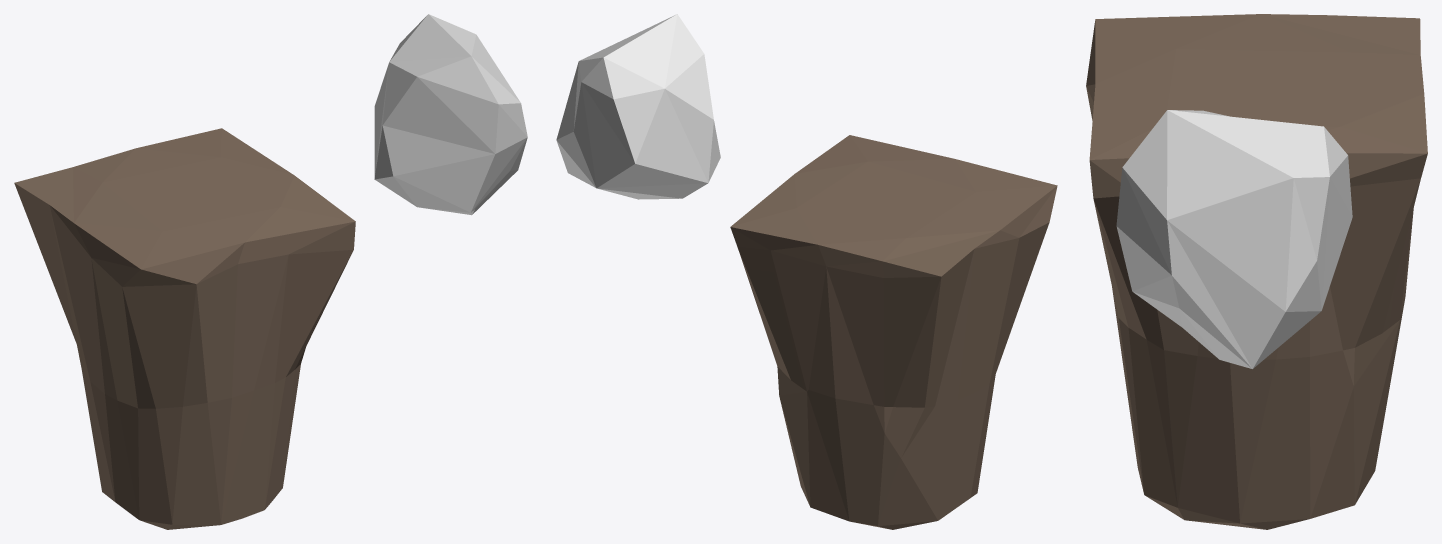
3 views of the same model, side by side, from view 1: azimuth 30°, elevation 25°; view 2: azimuth 150°, elevation 25°; view 3: azimuth 270°, elevation 25° (orthographic). The views are drawn at different scales.
Visible parts, largest first — view 1: 立方体, 立方体.002; view 2: 立方体, 立方体.002; view 3: 立方体, 立方体.002.
Part boxes in pixels (x1,y1,x2,y2): 立方体: [14, 128, 355, 529]; 立方体.002: [374, 14, 527, 215]; 立方体: [730, 135, 1057, 529]; 立方体.002: [556, 14, 720, 199]; 立方体: [1086, 14, 1427, 529]; 立方体.002: [1116, 110, 1352, 368].
Size of the model in its own units: 4.51 by 4.03 by 2.28.
